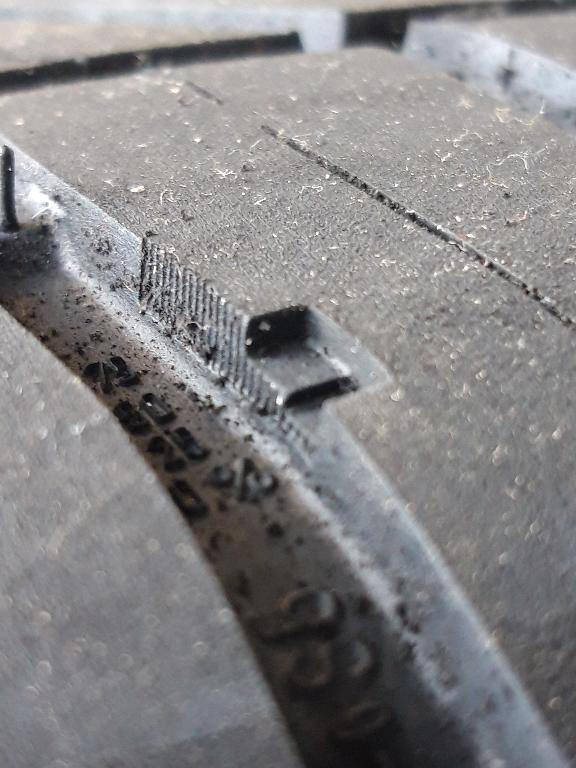temoin:50: (198, 267, 405, 470)
